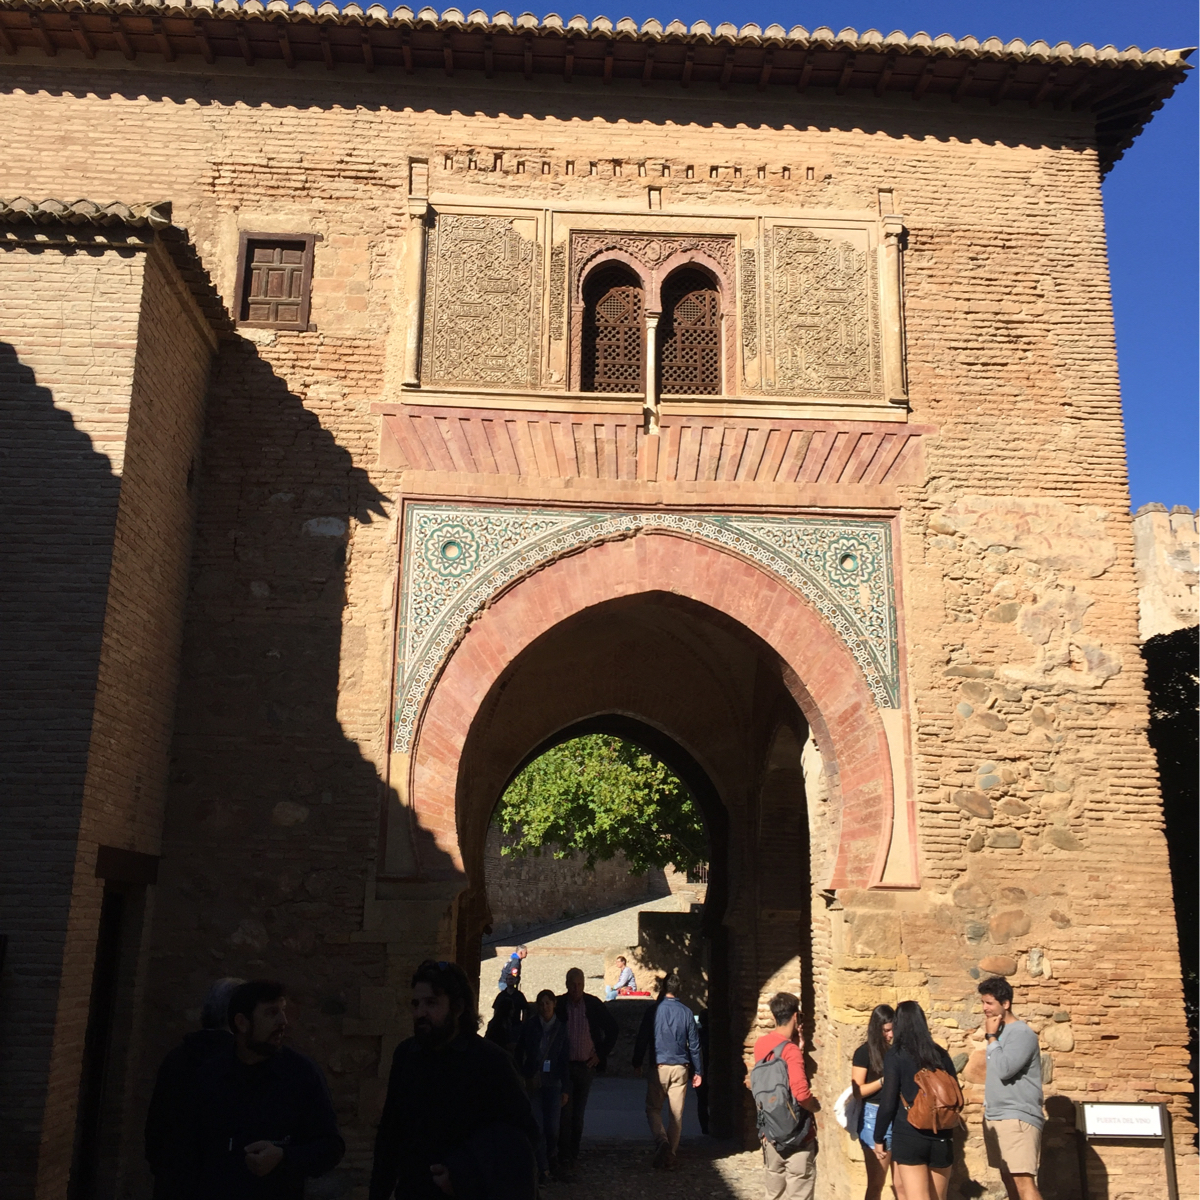arco-herradura: (418, 566, 875, 938), (573, 252, 653, 326), (653, 256, 725, 327)
dintel-adovelado: (395, 403, 896, 496)
